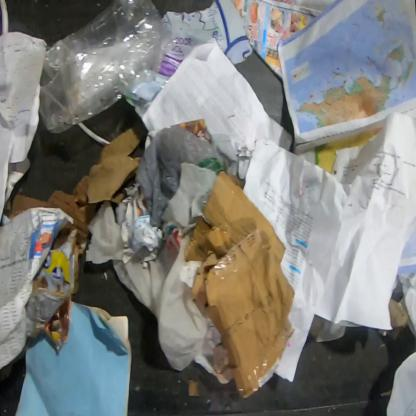cardboard: (2, 114, 149, 295), (183, 171, 296, 401), (125, 0, 253, 118)
soft_plastic: (38, 0, 177, 134), (111, 235, 222, 374), (133, 126, 225, 227)
